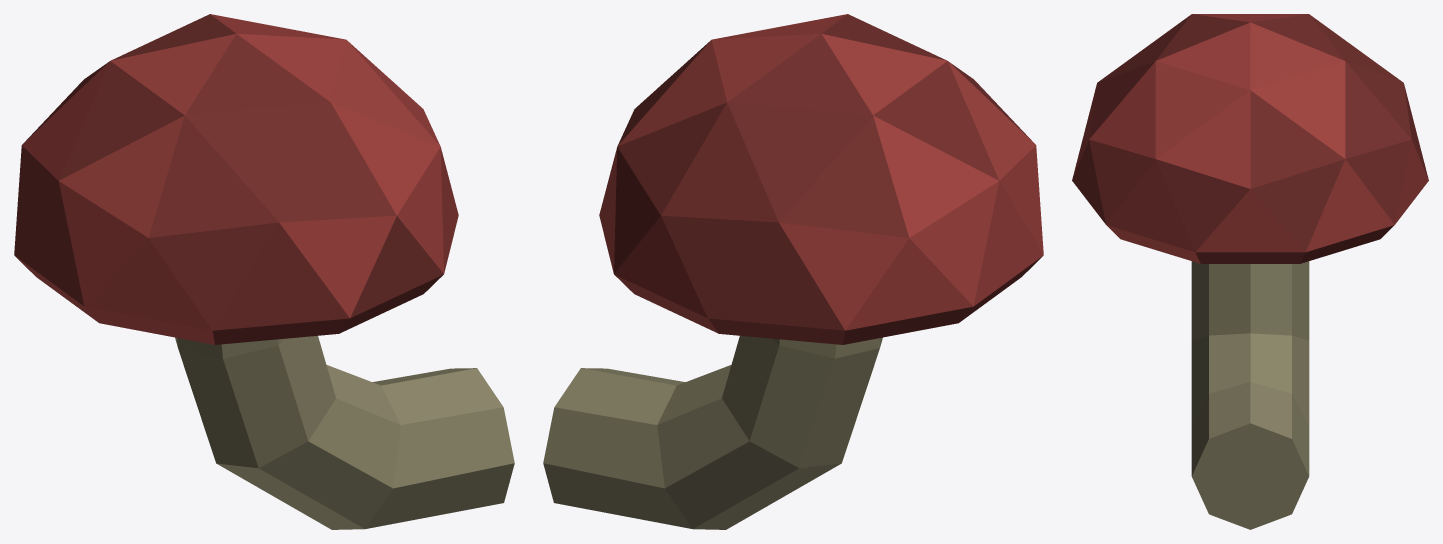
Rendered from Mushroom_5_Red.fbx.
3 renders of one model, left to right at view 1: azimuth 30°, elevation 25°; view 2: azimuth 150°, elevation 25°; view 3: azimuth 270°, elevation 25°, orthographic. The views are drawn at different scales.
Parts seen in each view (by area): view 1: Mushroom_5_Red; view 2: Mushroom_5_Red; view 3: Mushroom_5_Red.
Part boxes in pixels (x1,y1,x2,y2): Mushroom_5_Red: (14,14,514,529); Mushroom_5_Red: (543,14,1043,529); Mushroom_5_Red: (1072,14,1428,529).
Size of the model in its own units: 33.07 by 39 by 30.39.
